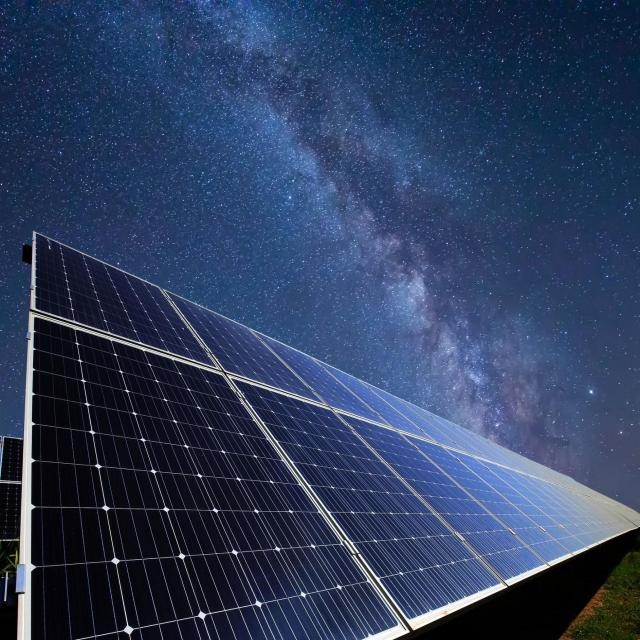clean-solar-panel: (18, 233, 640, 638)
